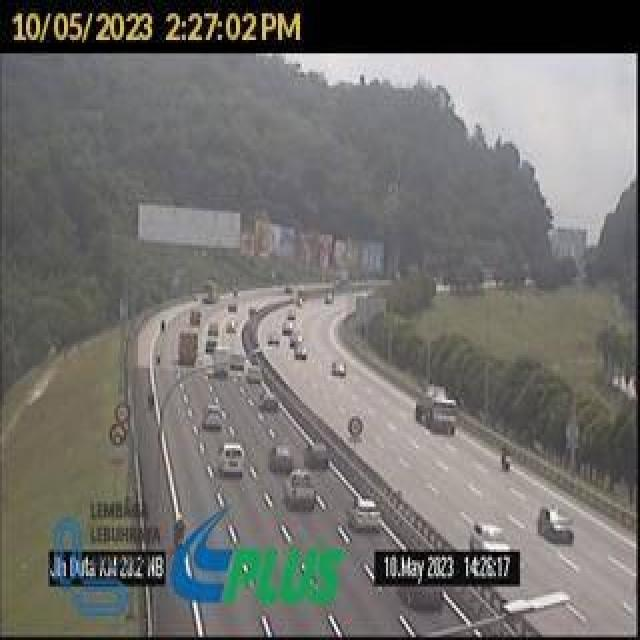Car: (343, 492, 383, 538), (538, 501, 576, 542), (269, 443, 294, 474), (306, 441, 330, 471), (200, 401, 224, 430), (255, 392, 282, 414), (330, 359, 349, 377), (294, 340, 308, 360)
Cycle: (502, 455, 512, 469)
Truck: (414, 384, 459, 435), (286, 472, 317, 512), (212, 344, 234, 382), (178, 332, 199, 368)
Van: (216, 443, 247, 475)
